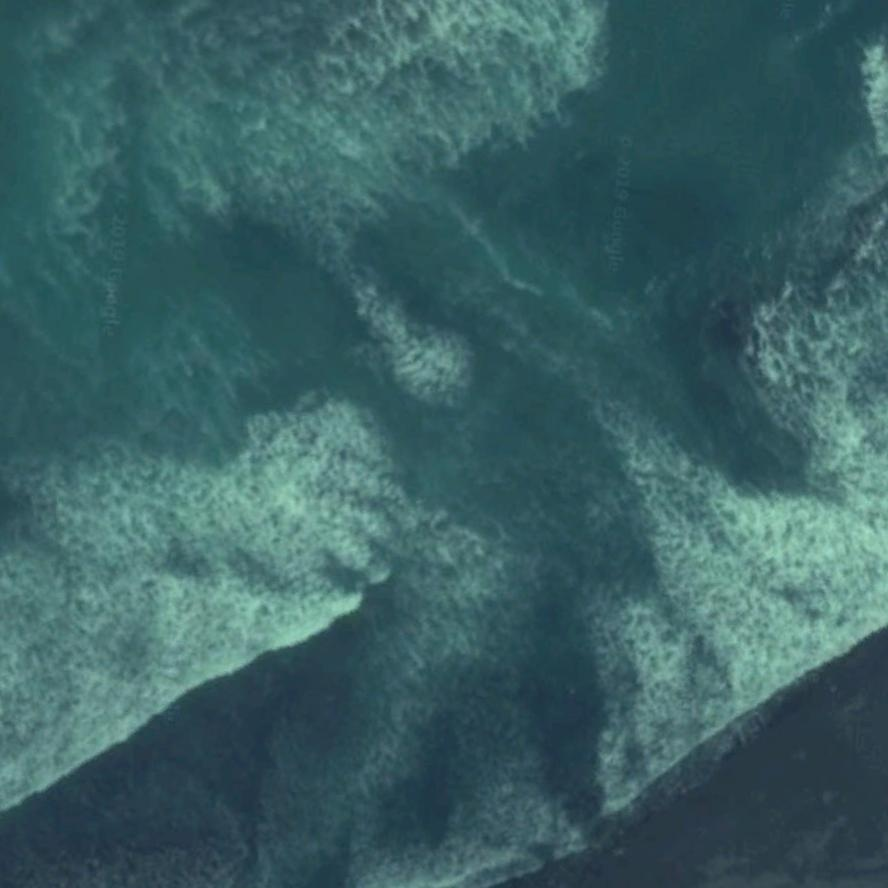rip_current: (222, 199, 700, 690)
